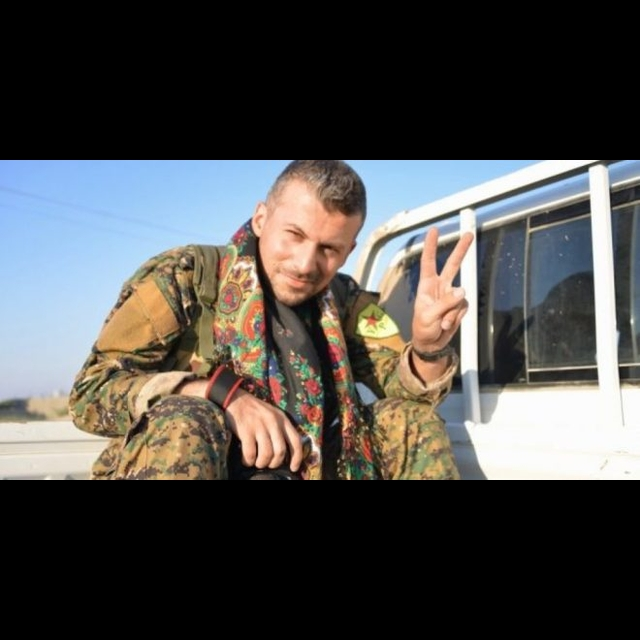YPG: (357, 298, 402, 340)
ZI: (413, 225, 479, 366)
